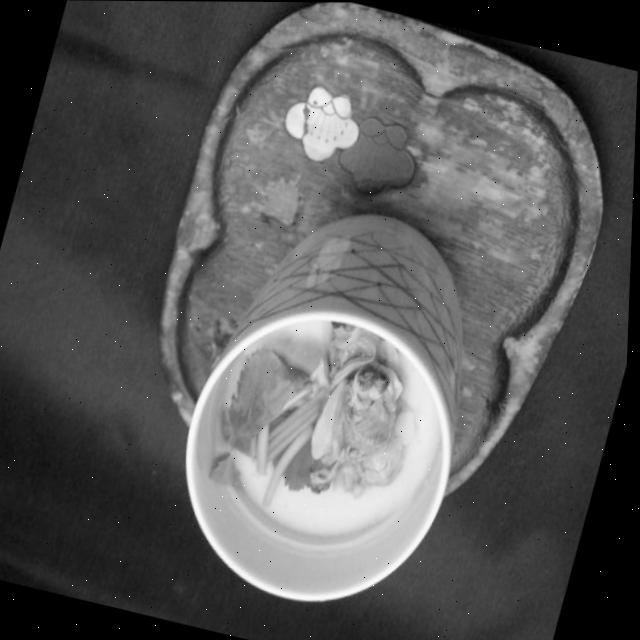鸡蛋料理: (148, 176, 537, 640)
